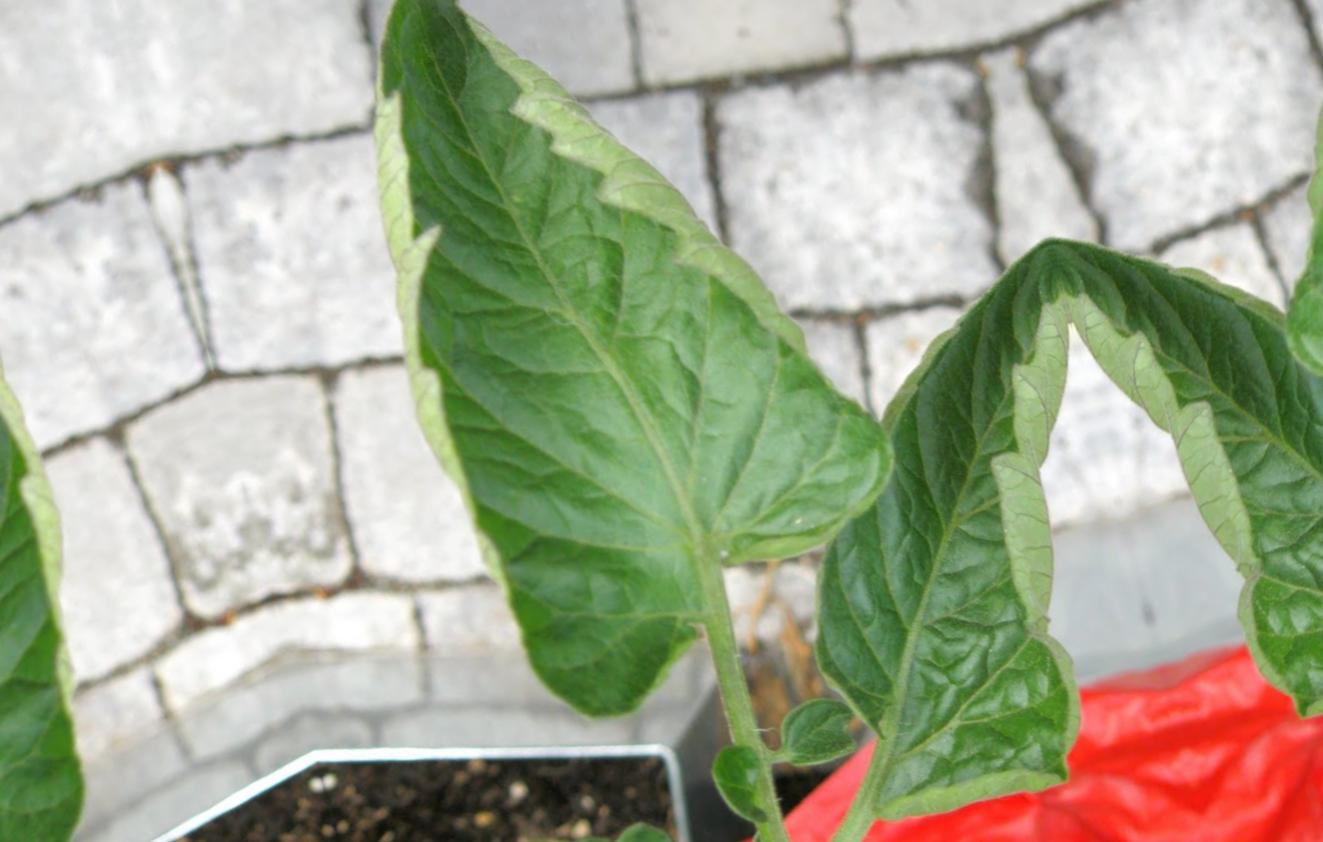Tomato leaf: (318, 0, 943, 746), (701, 188, 1192, 842), (350, 777, 827, 842)
